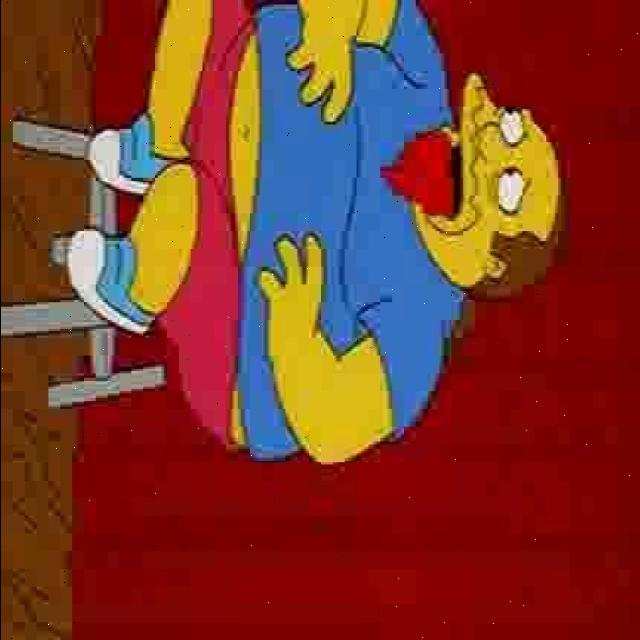Comic Book Guy: (404, 67, 568, 316)
